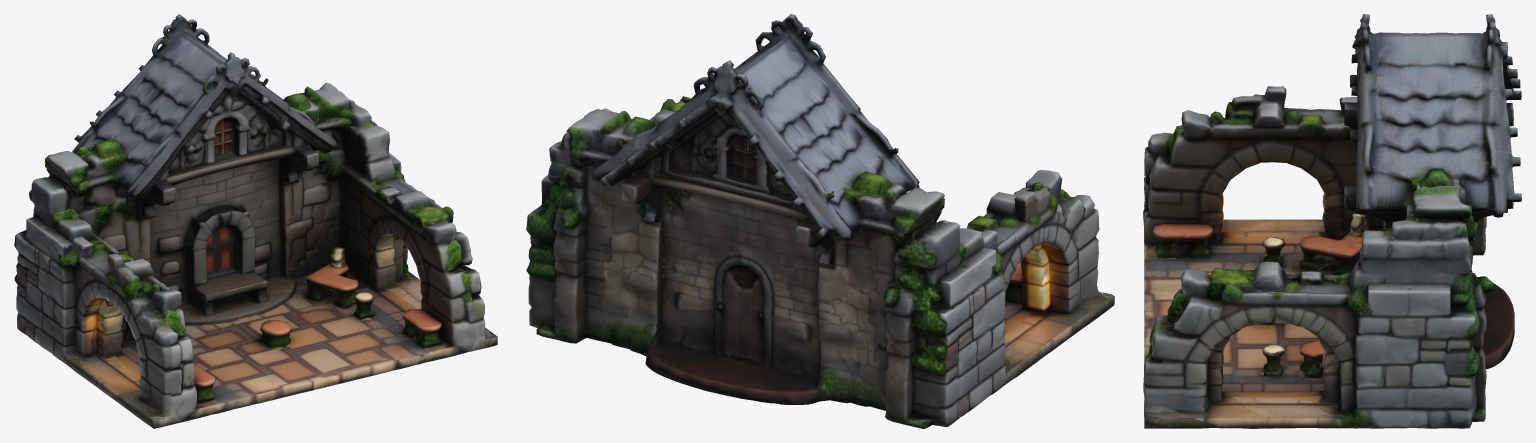
File: Dwarven Building #19_final.glb
3 views of the same model, side by side, from view 1: azimuth 30°, elevation 25°; view 2: azimuth 150°, elevation 25°; view 3: azimuth 270°, elevation 25° (orthographic). The views are drawn at different scales.
Bounding box in the file's own units: 1.91 × 1.41 × 1.54.
1 material, 1 textured.
